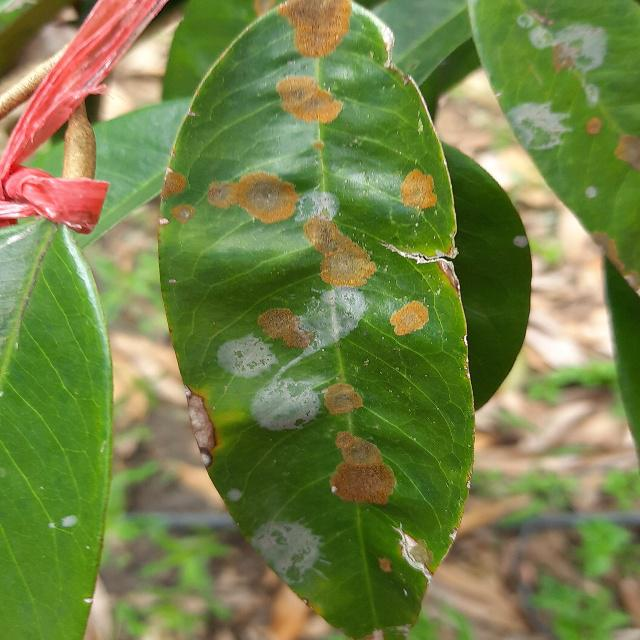Algal Leaf Spot: (147, 0, 484, 639)
